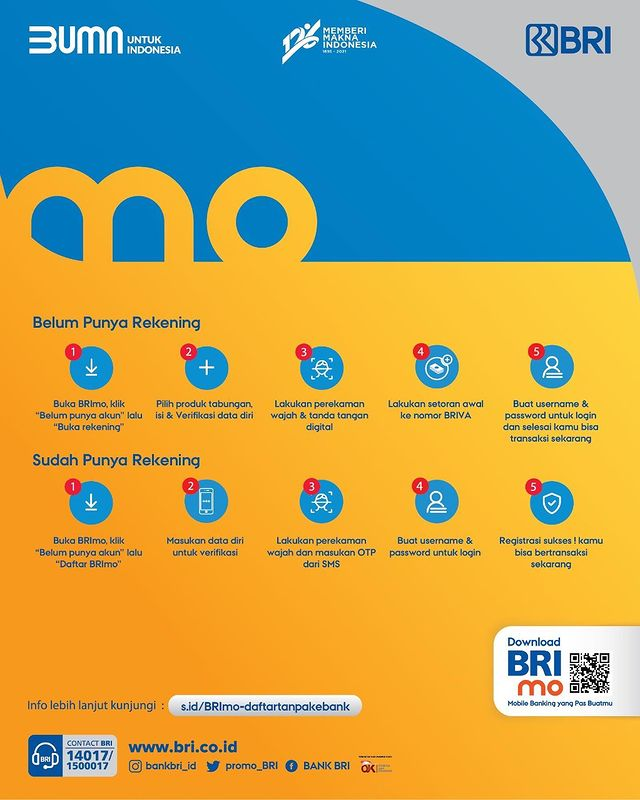ojk: (359, 758, 396, 776)
